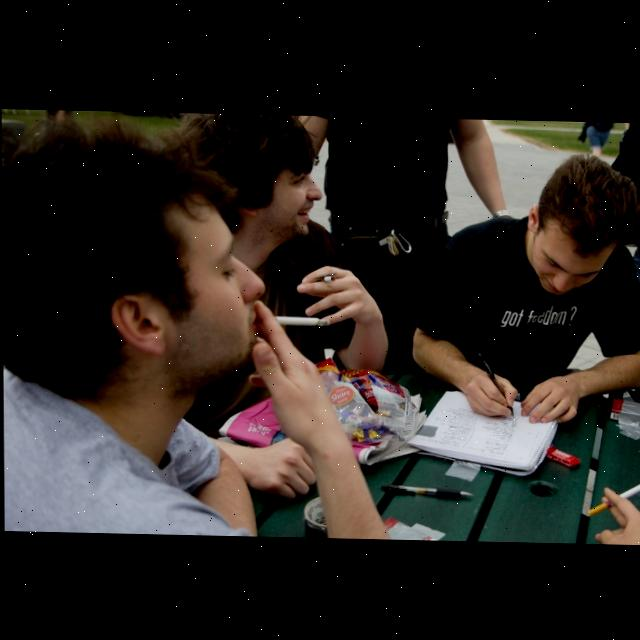cigarette: (587, 480, 640, 516), (274, 316, 330, 325), (321, 275, 336, 281)
